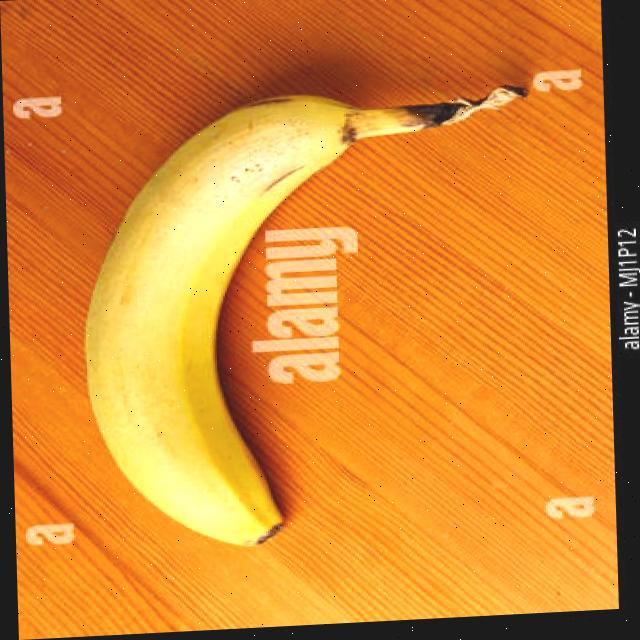banana: (71, 73, 546, 559)
